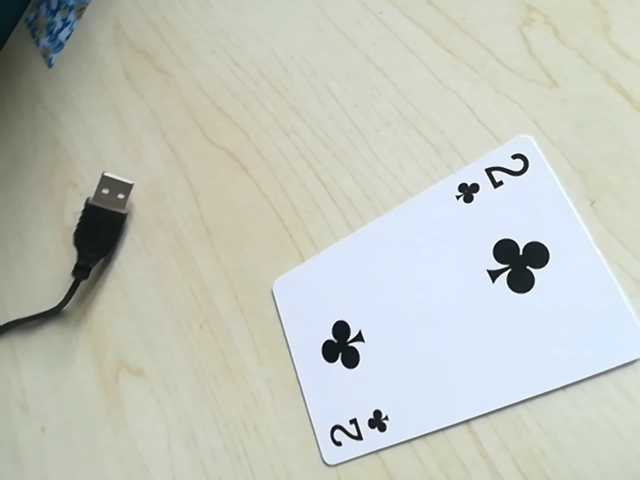mh 2: (449, 150, 535, 209), (319, 411, 390, 459)
